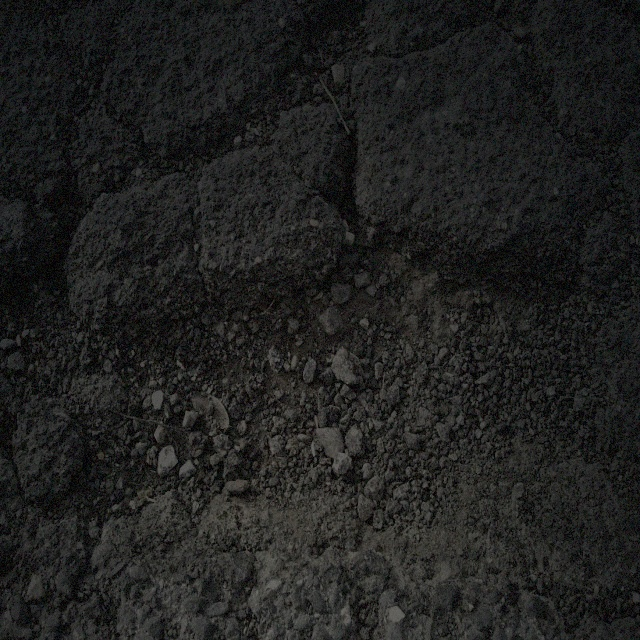pothole: (74, 213, 572, 552)
